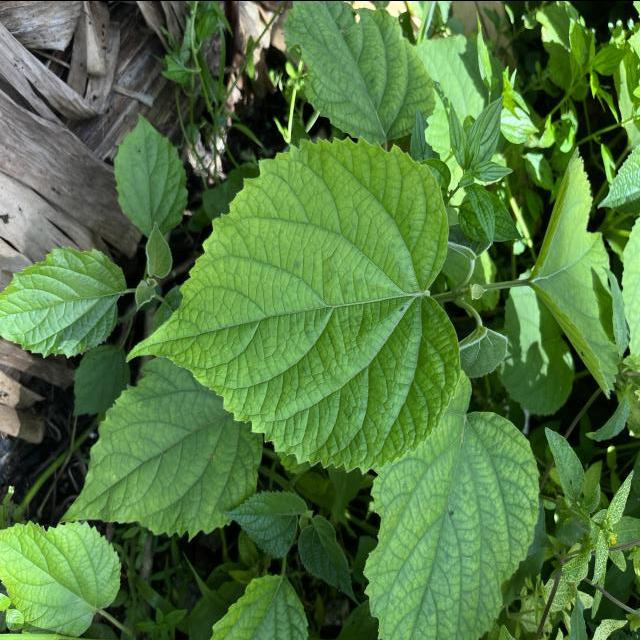Clerodendrum infortunatum: (123, 131, 463, 479), (361, 365, 544, 640), (54, 354, 265, 544), (280, 0, 438, 144)
